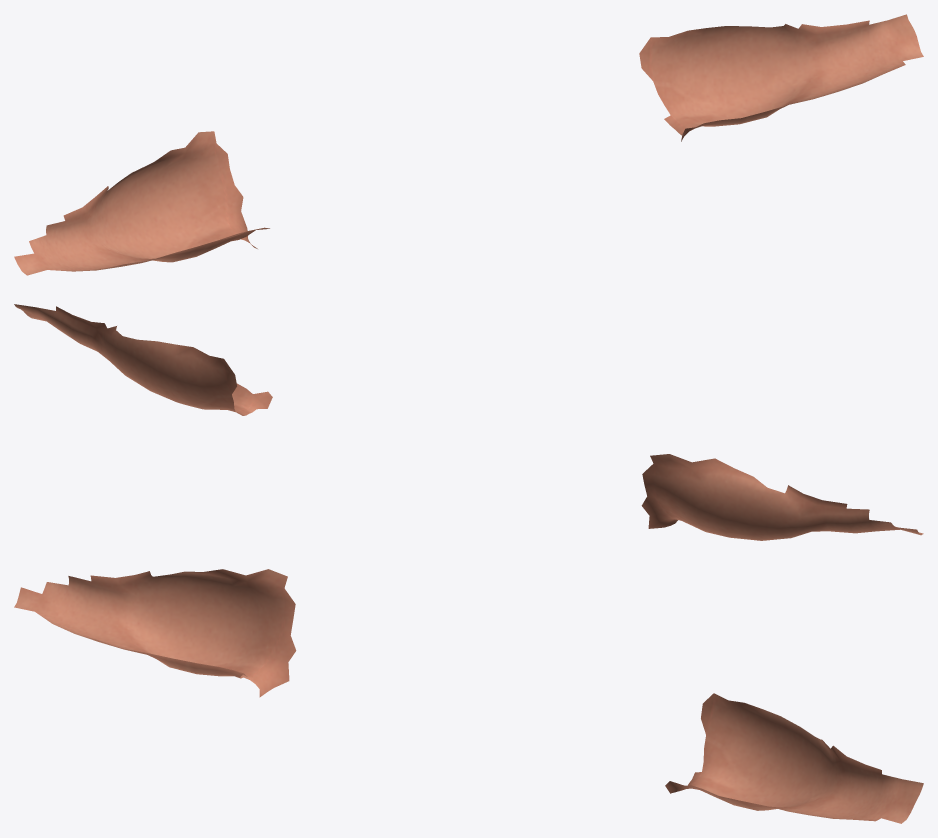
The model's file is triceps.glb.
The picture shows the model from 3 angles, top to bottom: view 1: azimuth 30°, elevation 25°; view 2: azimuth 150°, elevation 25°; view 3: azimuth 330°, elevation 25°; orthographic projection.
Visible parts, largest first — view 1: triceps; view 2: triceps; view 3: triceps.
Part boxes in pixels (x1,y1,x2,y2): triceps: [14, 14, 923, 275]; triceps: [14, 304, 923, 540]; triceps: [14, 569, 923, 823].
Bounding box in the file's own units: 0.101 × 0.0106 × 0.0102.
1 material, 1 textured.
